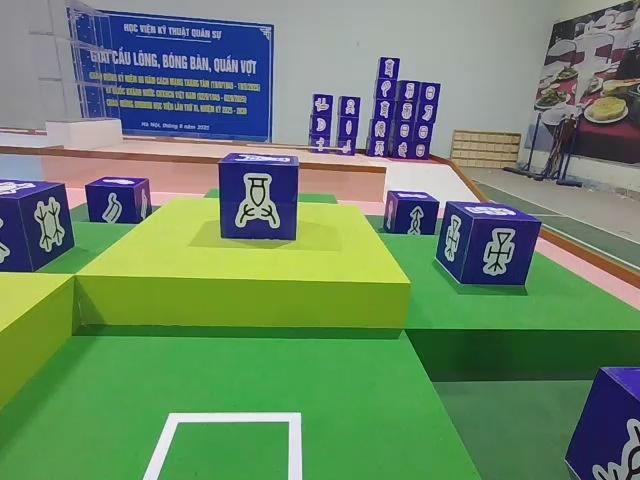R2 Real Blue: (435, 203, 541, 289), (564, 368, 640, 480), (219, 154, 303, 244), (0, 181, 73, 274), (87, 178, 154, 228), (385, 191, 442, 237)
